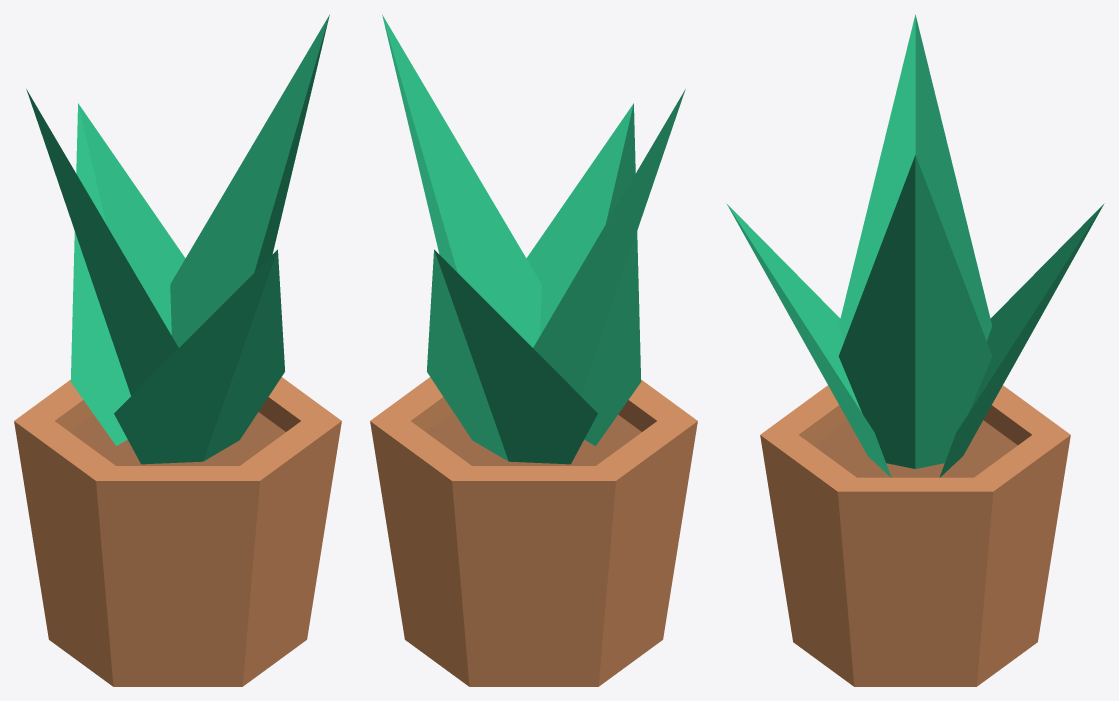
The model's file is Plant.fbx.
3 renders of one model, left to right at view 1: azimuth 30°, elevation 25°; view 2: azimuth 150°, elevation 25°; view 3: azimuth 270°, elevation 25°, orthographic. The views are drawn at different scales.
Parts seen in each view (by area): view 1: pottedPlant; view 2: pottedPlant; view 3: pottedPlant.
Part boxes in pixels (<box>): pottedPlant: <box>14,14,341,686</box>; pottedPlant: <box>370,14,697,686</box>; pottedPlant: <box>726,14,1104,686</box>.
Size of the model in its own units: 2.12 by 3.92 by 2.41.
